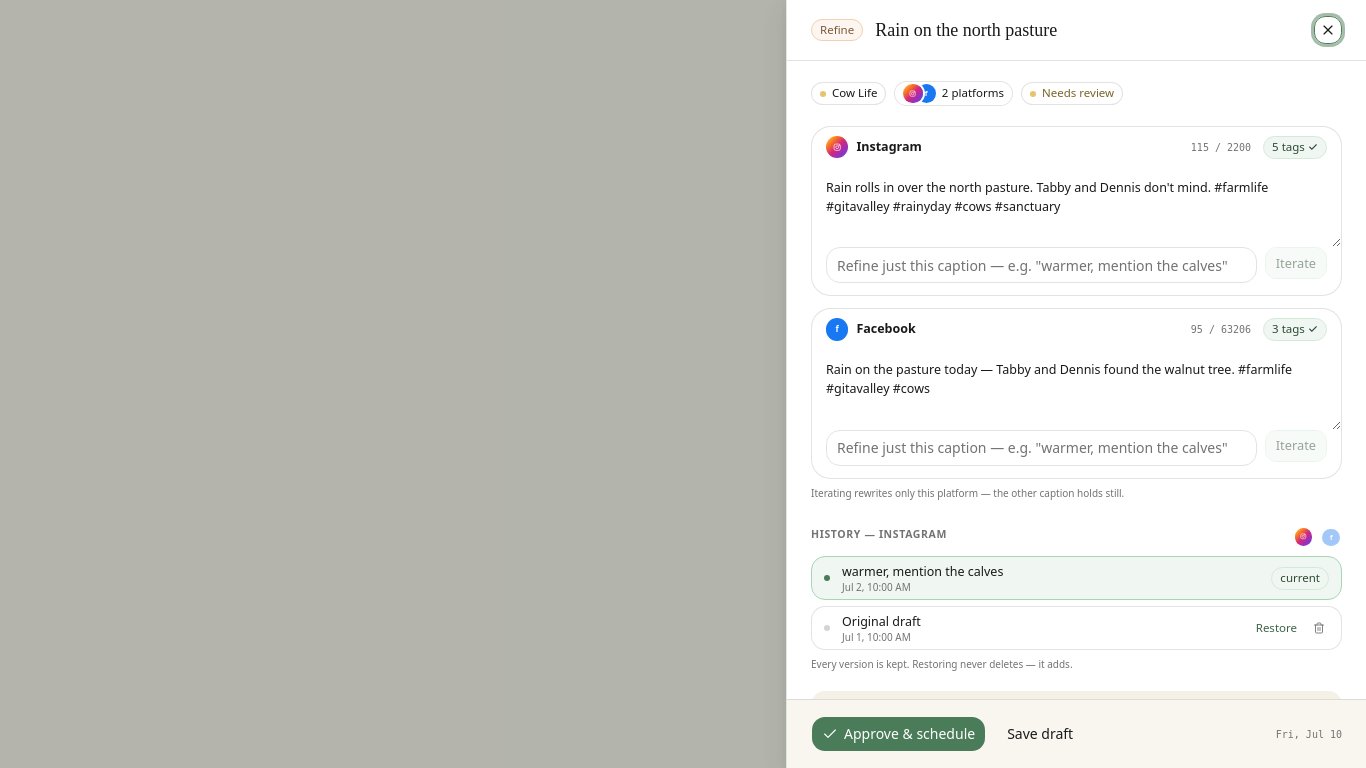
Scenario: ContentEditorSheet — refine mode › iterates a single platform caption and refreshes history
Expected: the heading "Rain on the north pasture" is shown, [875,20,1057,40]
Step 1. Type "warmer" into the field named "Refine Instagram caption" → (1041,265), box [826,247,1257,283]
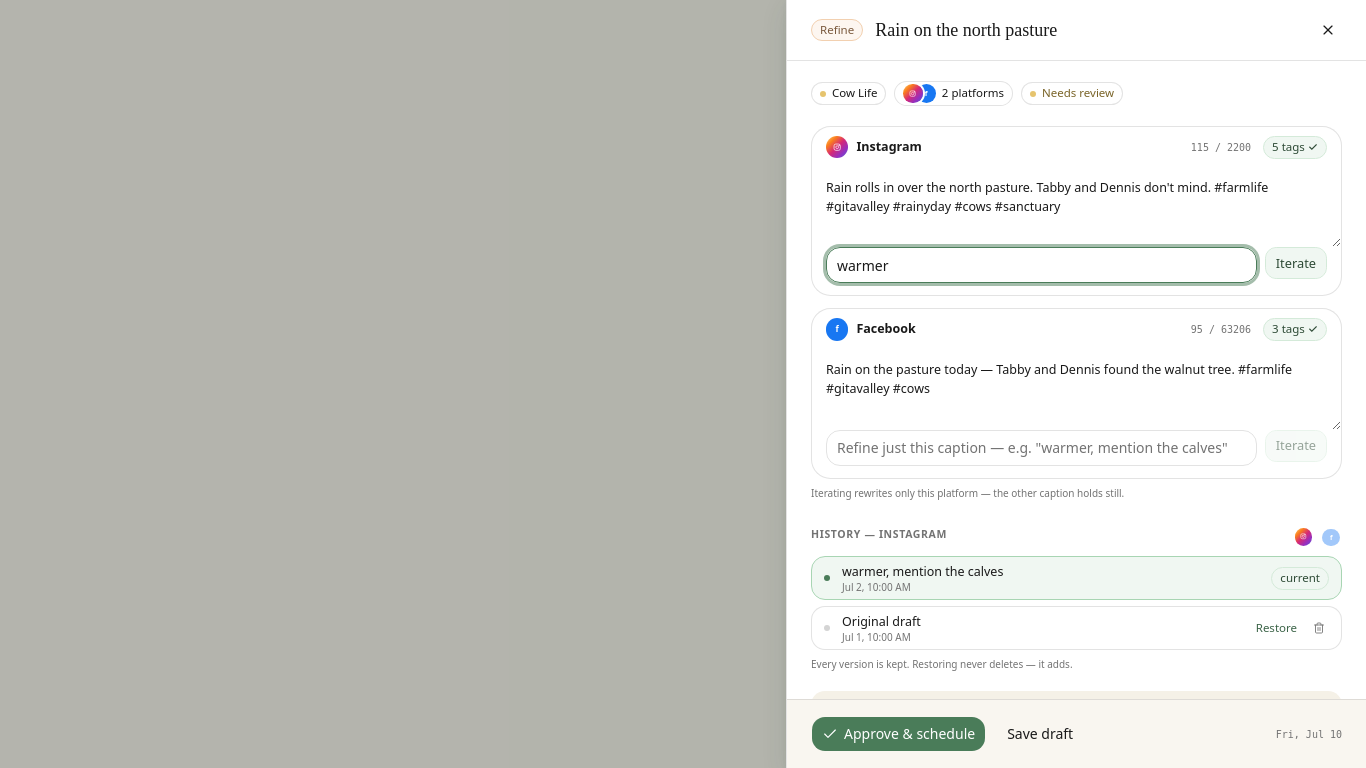
Step 2. Click the button "Iterate" below "115" → (1296,263), box [1265,247,1327,279]
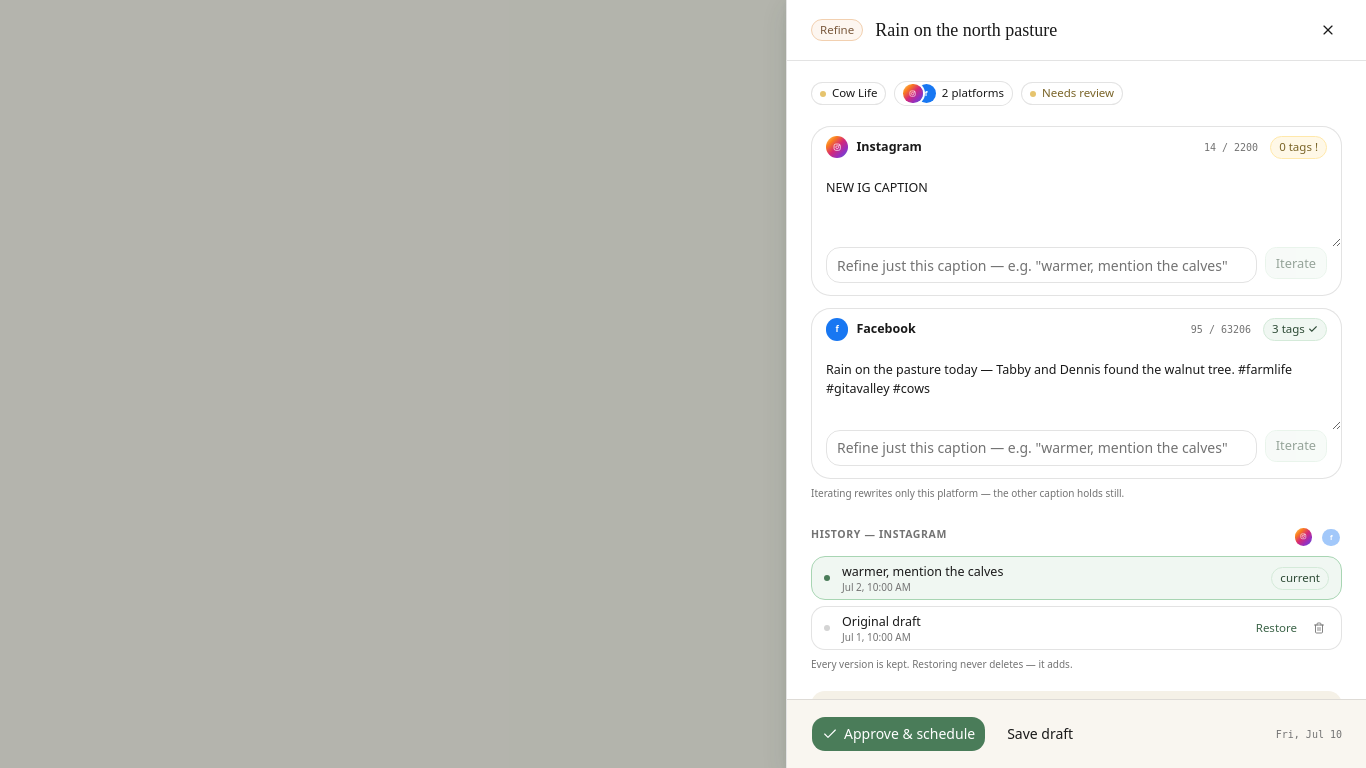
Result: the text box named "Instagram caption" holds "NEW IG CAPTION" at [812,167,1341,248]
